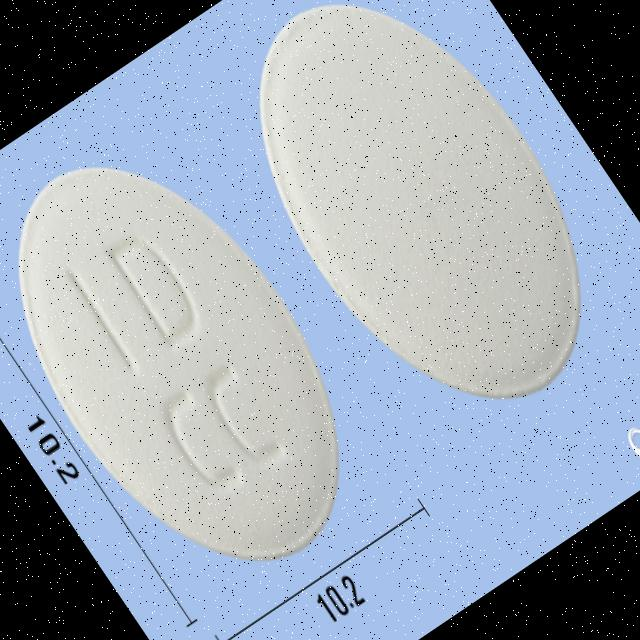Cycin - 500mg: (191, 0, 640, 458), (0, 107, 403, 615)
